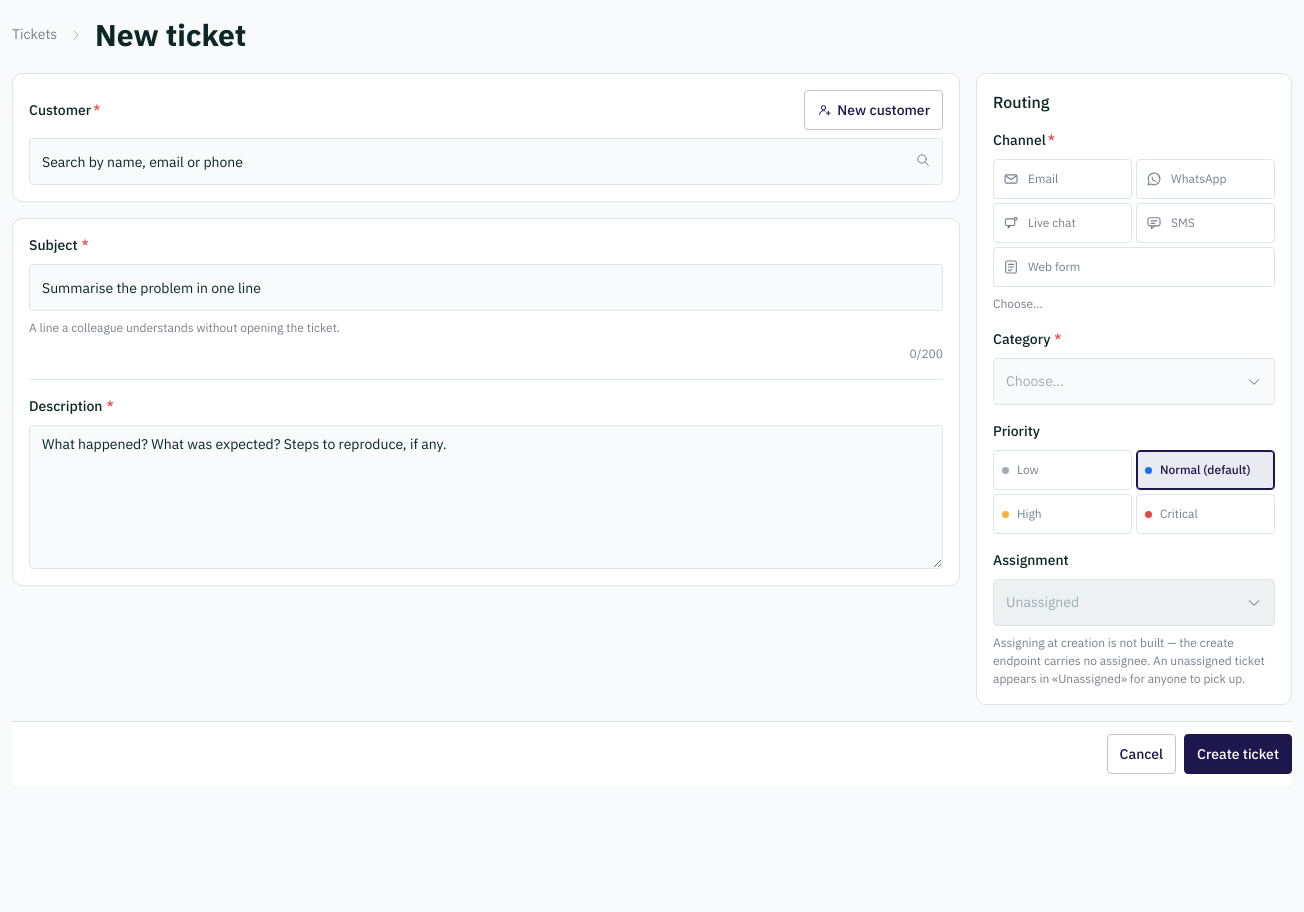
Scenario: AC-12, AC-13, AC-14 — the duplicate check › shows previous tickets when there are no open ones — the closed-yesterday case
Type "Gulf" into the field named "Customer".
click(486, 162); type("Gulf")  # box [29,138,943,185]
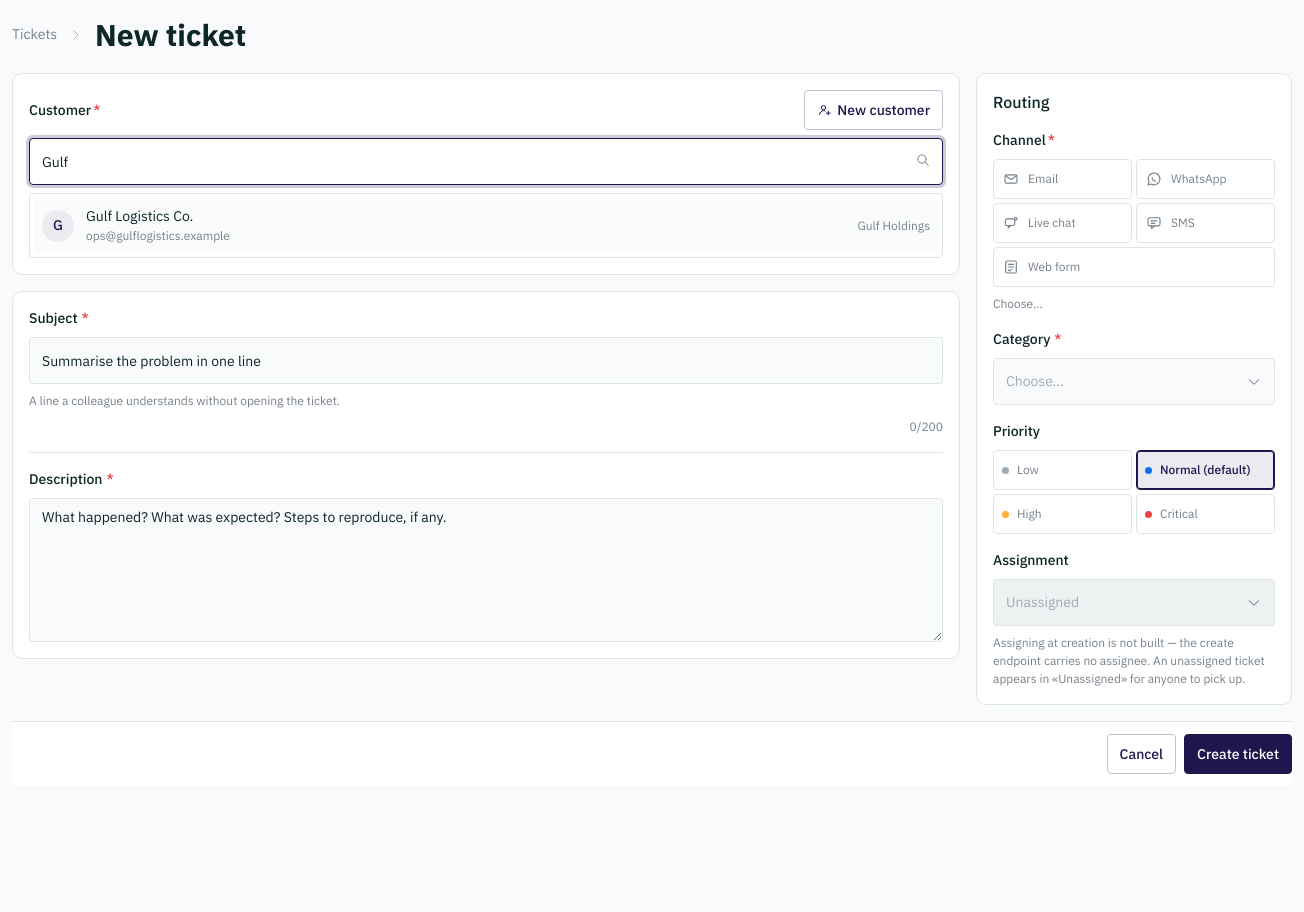
Click the option "G Gulf Logistics Co. ops@gulflogistics.example Gulf Holdings".
click(58, 226)  # box [34,198,938,253]
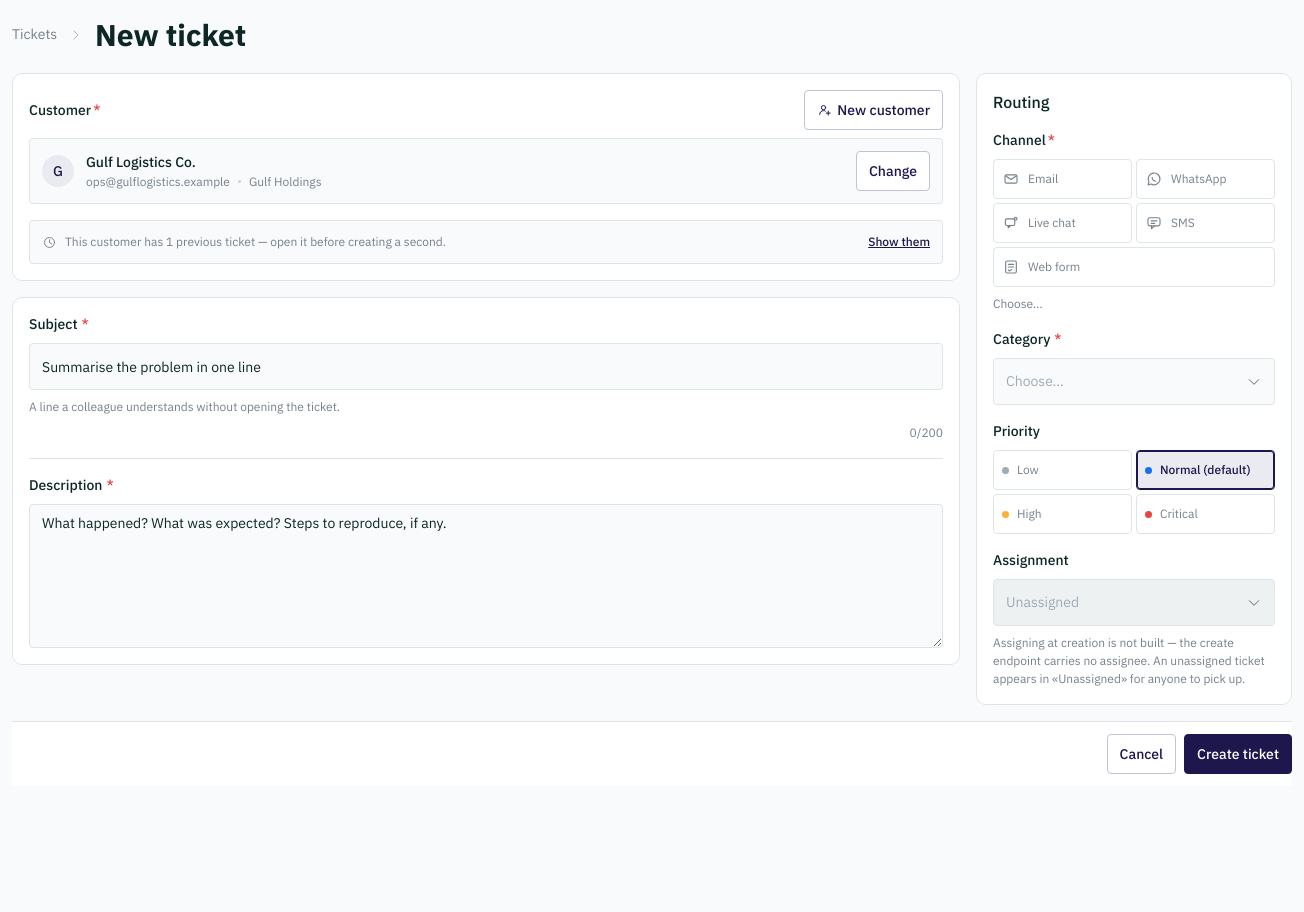
expect the button "Change" is shown: met, box [856,151,930,191]
expect the text "This customer has 1 previous ticket" is shown: met, box [65,234,446,249]
